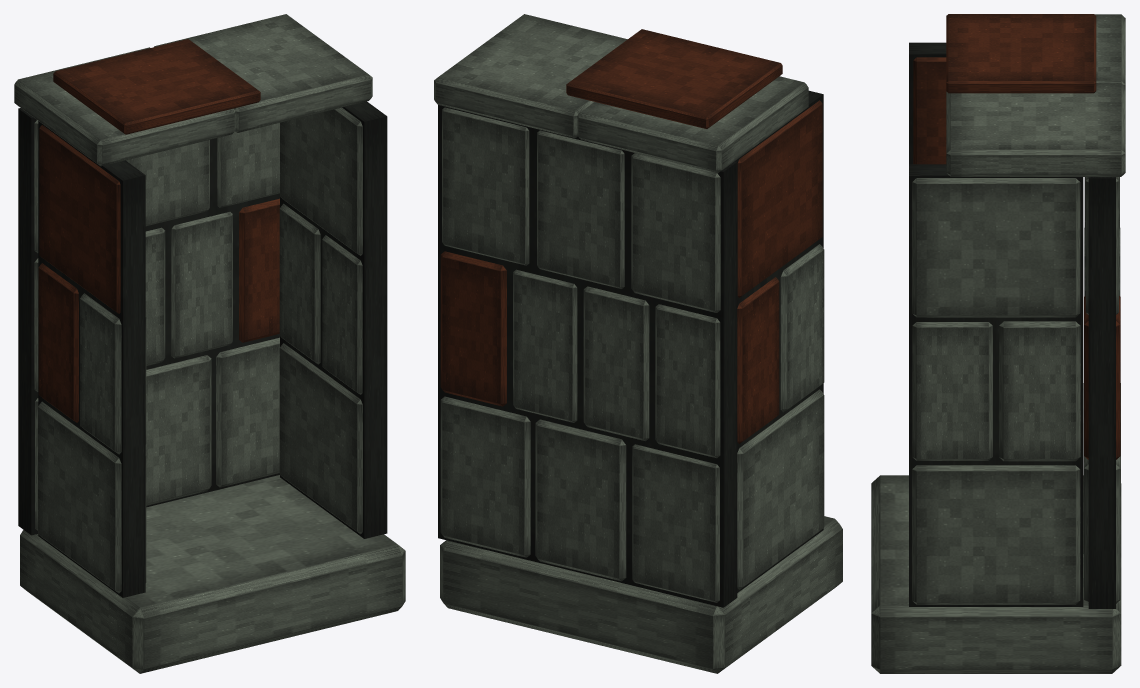
Rendered from THStage_FindSupport_11.fbx.
The picture shows the model from 3 angles, left to right: view 1: azimuth 30°, elevation 25°; view 2: azimuth 150°, elevation 25°; view 3: azimuth 270°, elevation 25°; orthographic projection. The views are drawn at different scales.
Parts seen in each view (by area): view 1: THStage_FindSupport_11; view 2: THStage_FindSupport_11; view 3: THStage_FindSupport_11.
Part boxes in pixels (left/top/right/bottom): THStage_FindSupport_11: left=14, top=14, right=405, bottom=673; THStage_FindSupport_11: left=434, top=14, right=842, bottom=673; THStage_FindSupport_11: left=871, top=14, right=1125, bottom=673.
Bounding box in the file's own units: 0.434 × 0.7854 × 0.336.
Materials: 1 (1 with a texture image).
